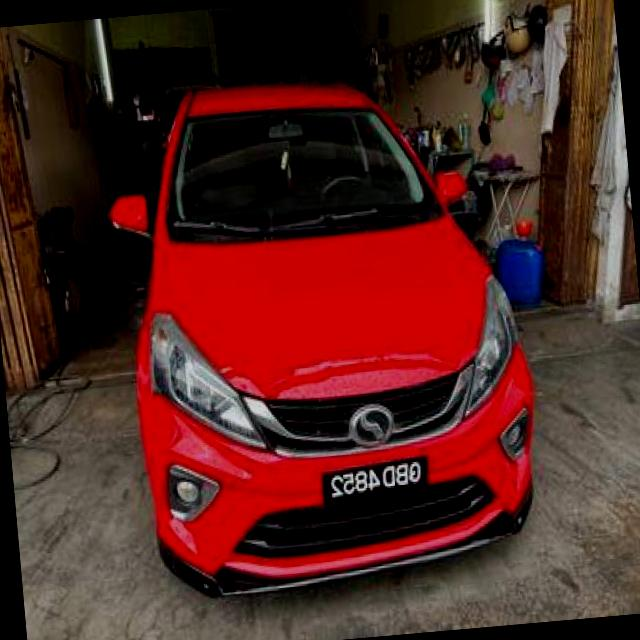PeroduaMyvi: (97, 54, 553, 606)
